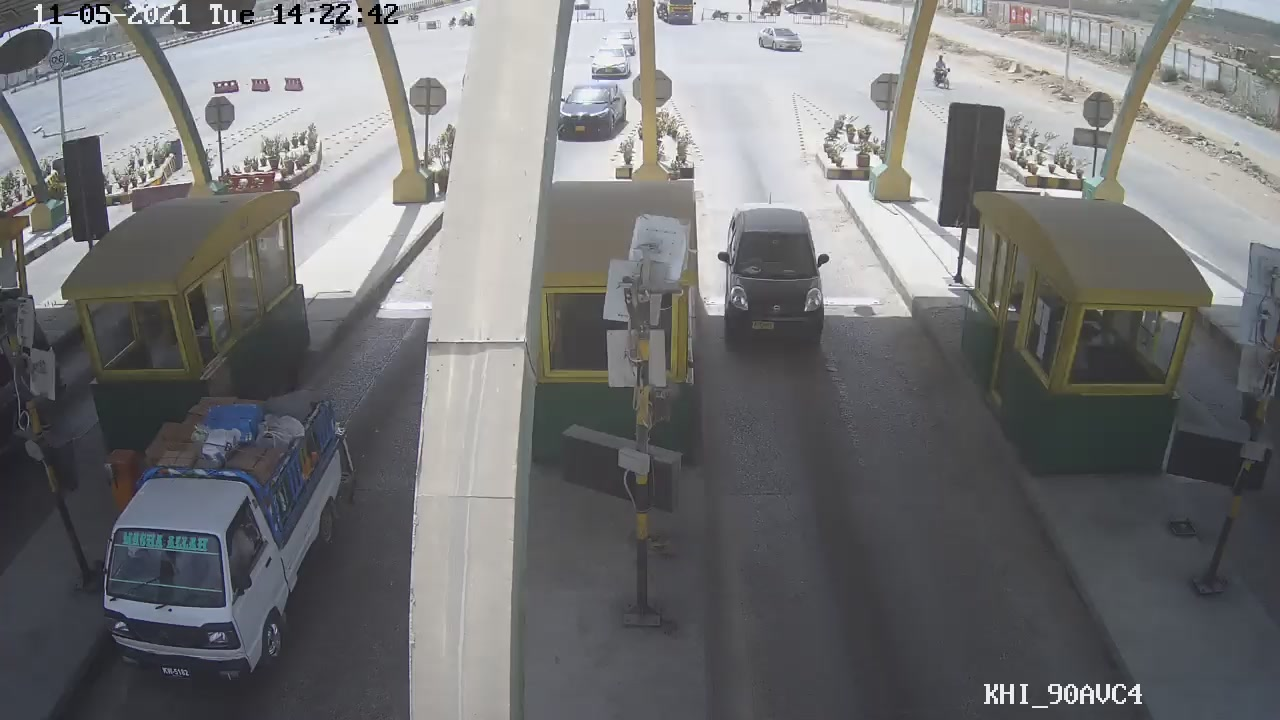F1: (711, 199, 838, 350)
